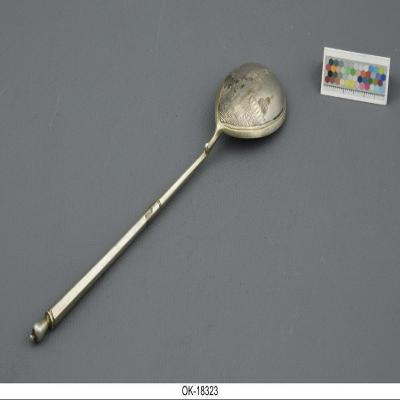dpi: (30, 63, 288, 346)
